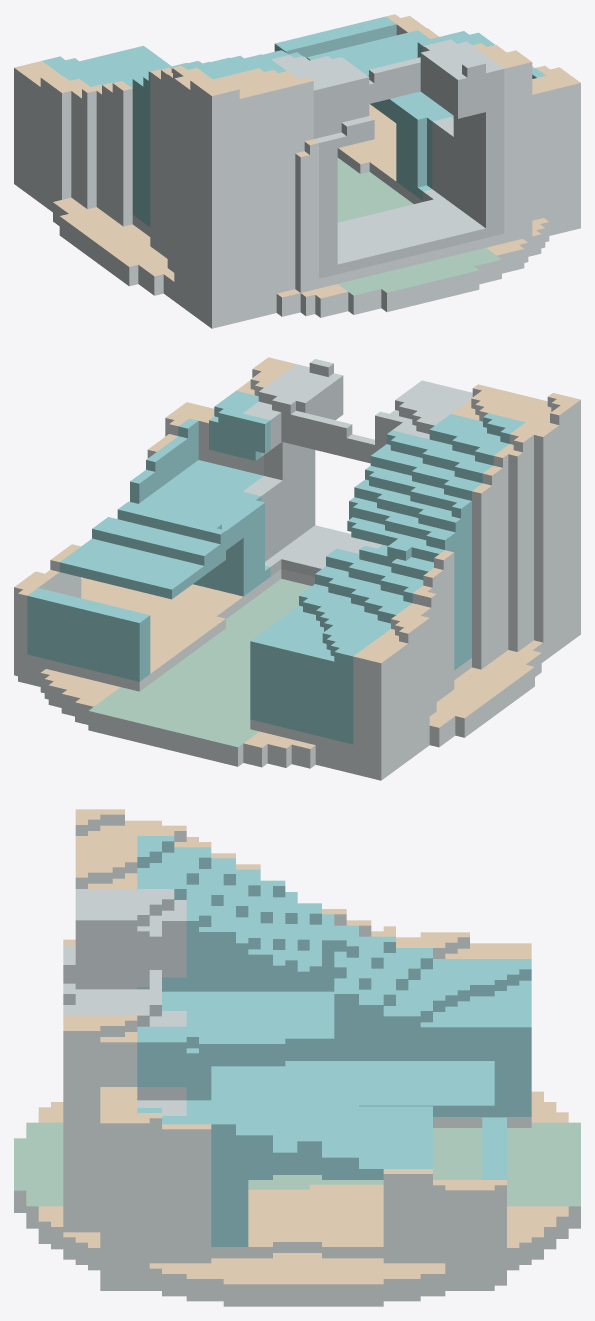
Rendered from a37_inhabited_city.glb.
The picture shows the model from 3 angles, top to bottom: view 1: azimuth 30°, elevation 25°; view 2: azimuth 150°, elevation 25°; view 3: azimuth 270°, elevation 25°; orthographic projection. The views are drawn at different scales.
Bounding box in the file's own units: 460 × 240 × 460.
